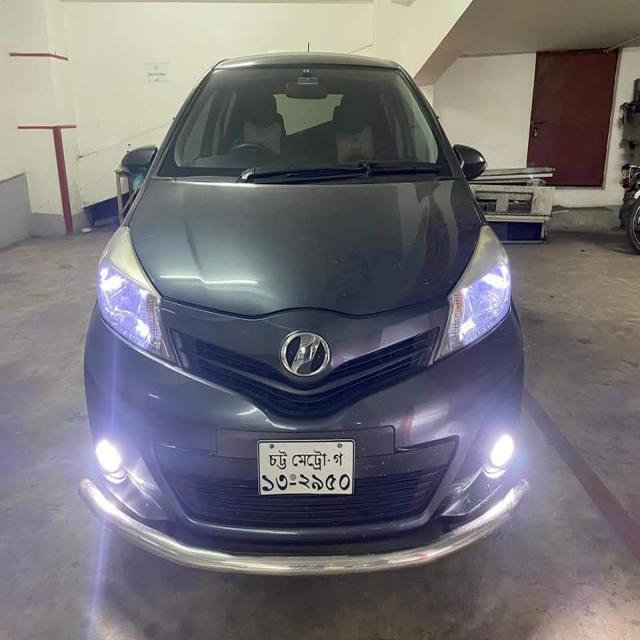black: (86, 52, 524, 568)
